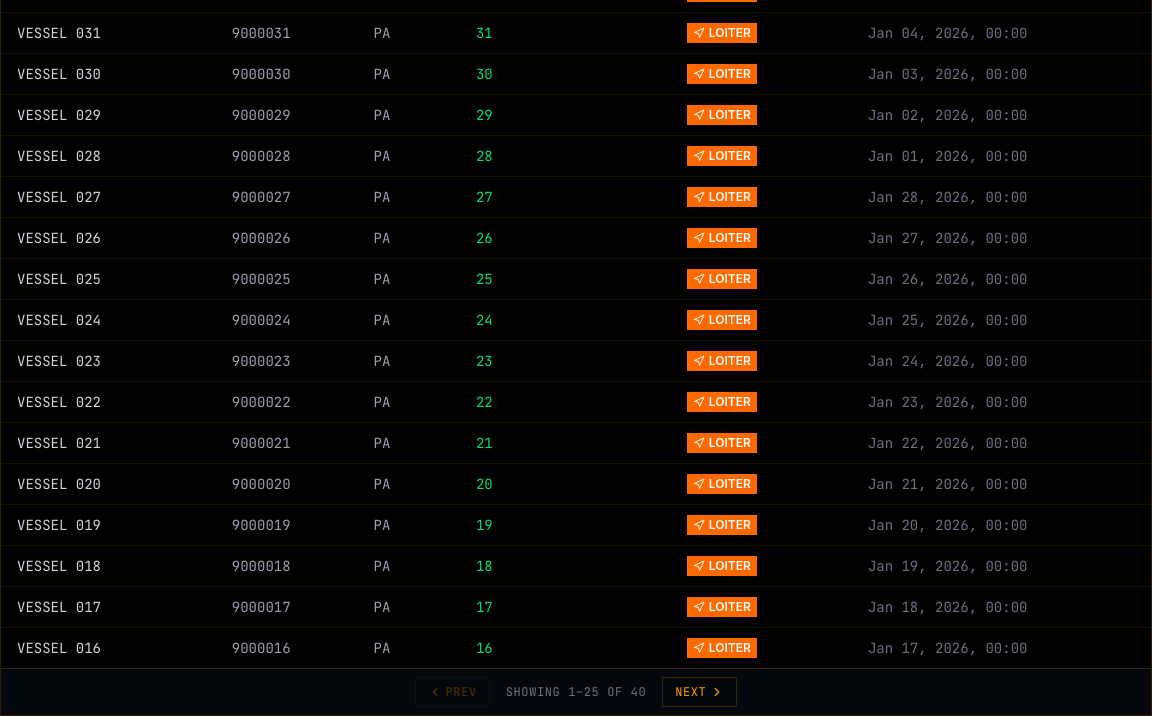
Test case: AnomalyTable › pages forward and updates the visible rows
The image size is (1152, 716).
(page scrolled)
Click the button with aria-label "next page". click: (700, 692)
box: [662,677,737,707]
(page scrolled)
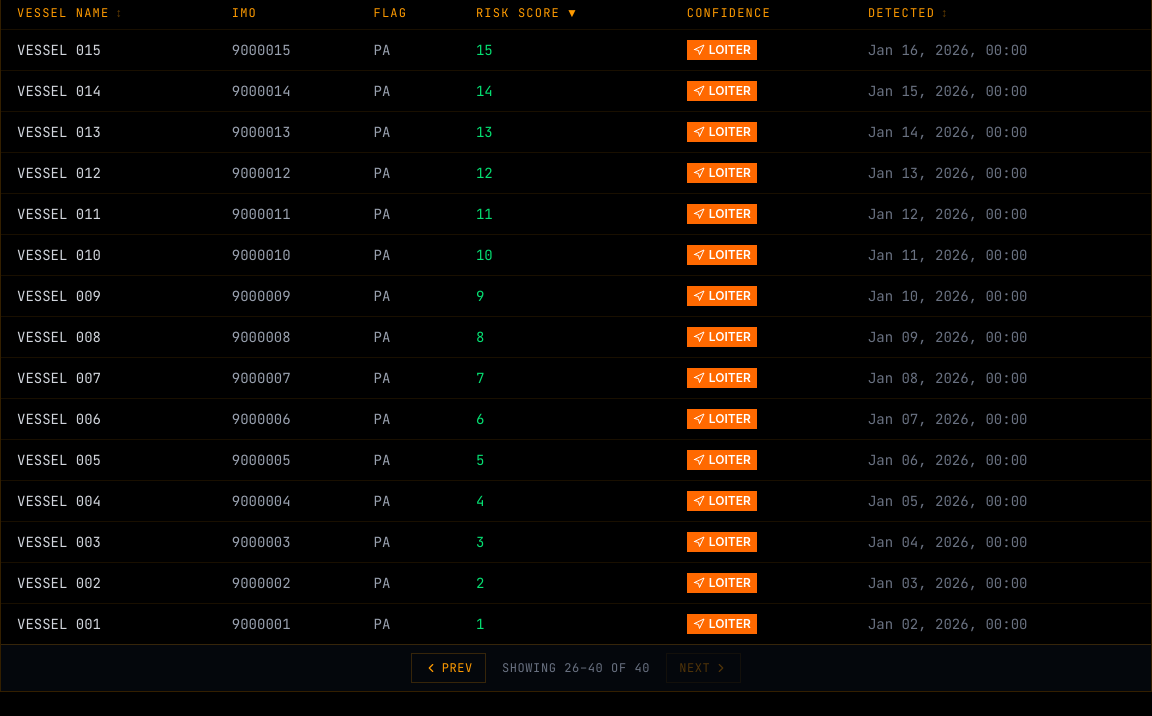
Check: the text "Showing 26–40 of 40" is shown, box [502,660,650,676]
